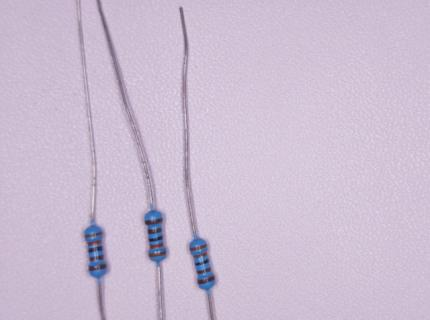Black band: (88, 245, 104, 254), (148, 235, 164, 242), (195, 259, 210, 266)
Brown band: (197, 276, 216, 285), (89, 264, 107, 272), (145, 218, 163, 226), (196, 267, 212, 275), (148, 227, 163, 235), (89, 255, 104, 262)
Orange band: (85, 231, 103, 238), (148, 251, 166, 258), (190, 244, 208, 251), (149, 242, 164, 250), (87, 239, 102, 246), (193, 253, 208, 259)
